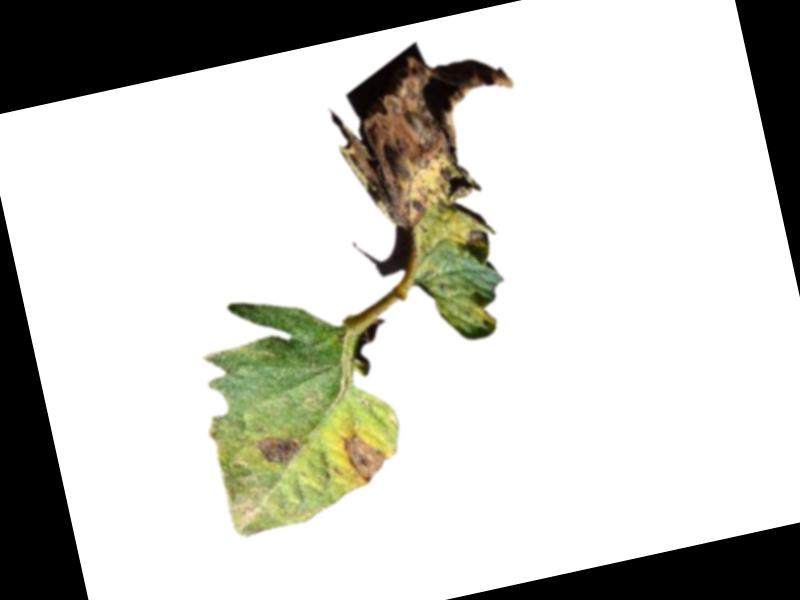Early_blight: (320, 34, 549, 274), (342, 428, 392, 485), (257, 429, 307, 470)
